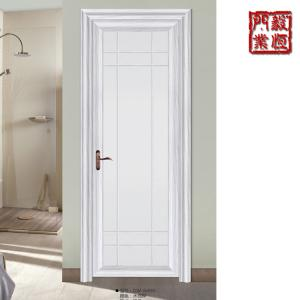door: (97, 27, 177, 276)
